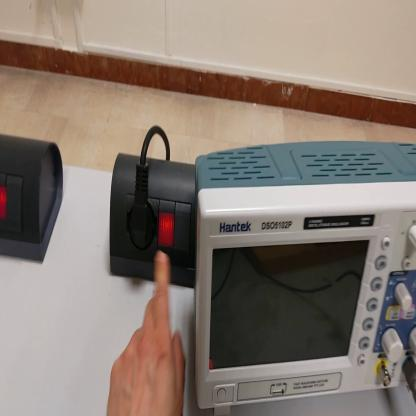hand: (108, 247, 187, 416)
oscilloscope: (194, 141, 415, 414)
socket: (110, 150, 197, 288), (1, 133, 66, 263)
